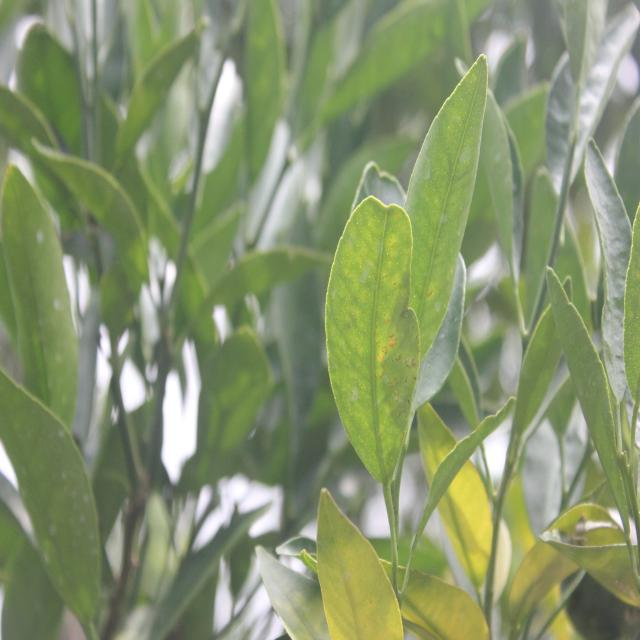canker: (336, 223, 411, 417), (409, 141, 467, 346)
